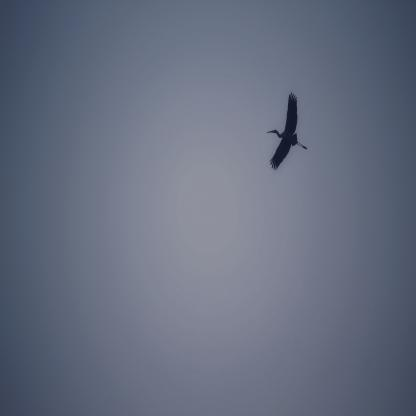bird: (266, 90, 310, 172)
